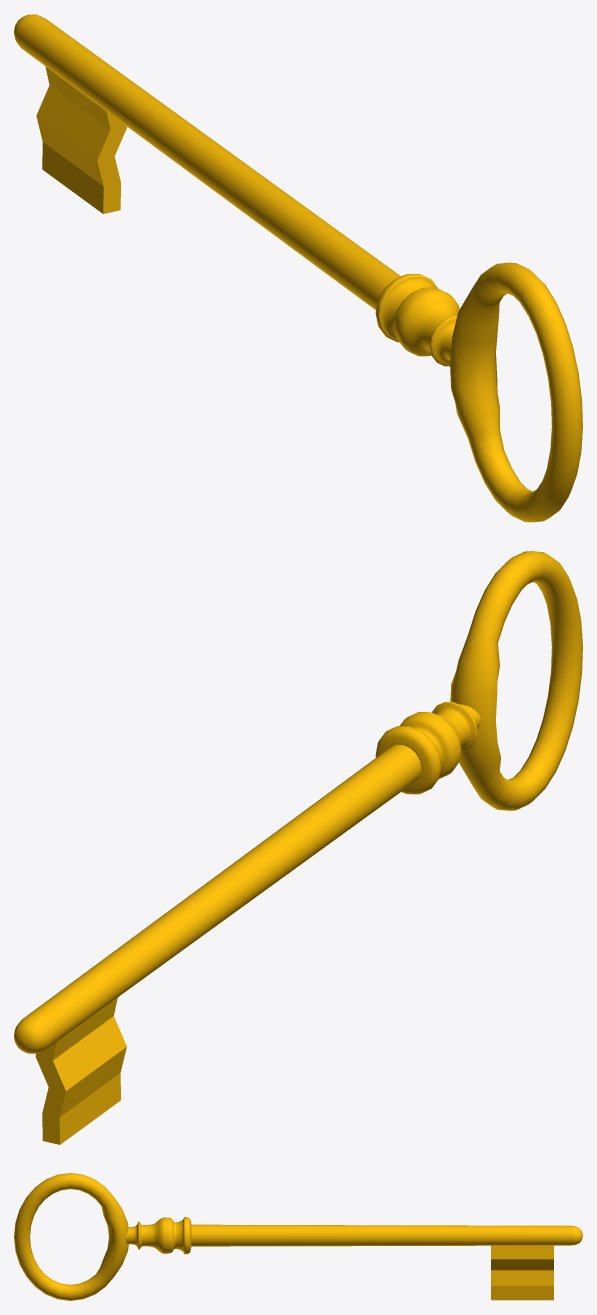
The model's file is KeyWAnimation.fbx.
3 views of the same model, one above another, from view 1: azimuth 30°, elevation 25°; view 2: azimuth 150°, elevation 25°; view 3: azimuth 270°, elevation 25° (orthographic). The views are drawn at different scales.
Visible parts, largest first — view 1: Ellipse01; view 2: Ellipse01; view 3: Ellipse01.
Part boxes in pixels (<box>): Ellipse01: <box>14,14,582,522</box>; Ellipse01: <box>14,551,582,1144</box>; Ellipse01: <box>14,1173,582,1300</box>.
Size of the model in its own units: 8.25 by 30.75 by 125.
